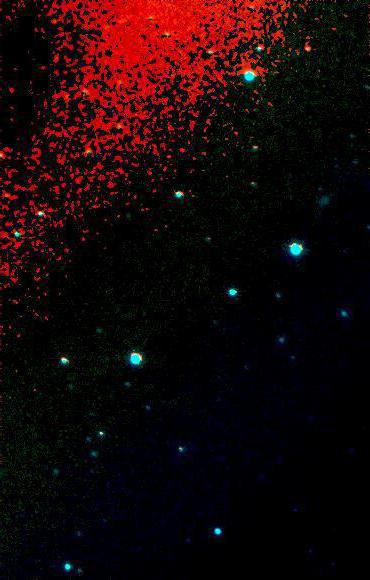star: (291, 33, 321, 63)
